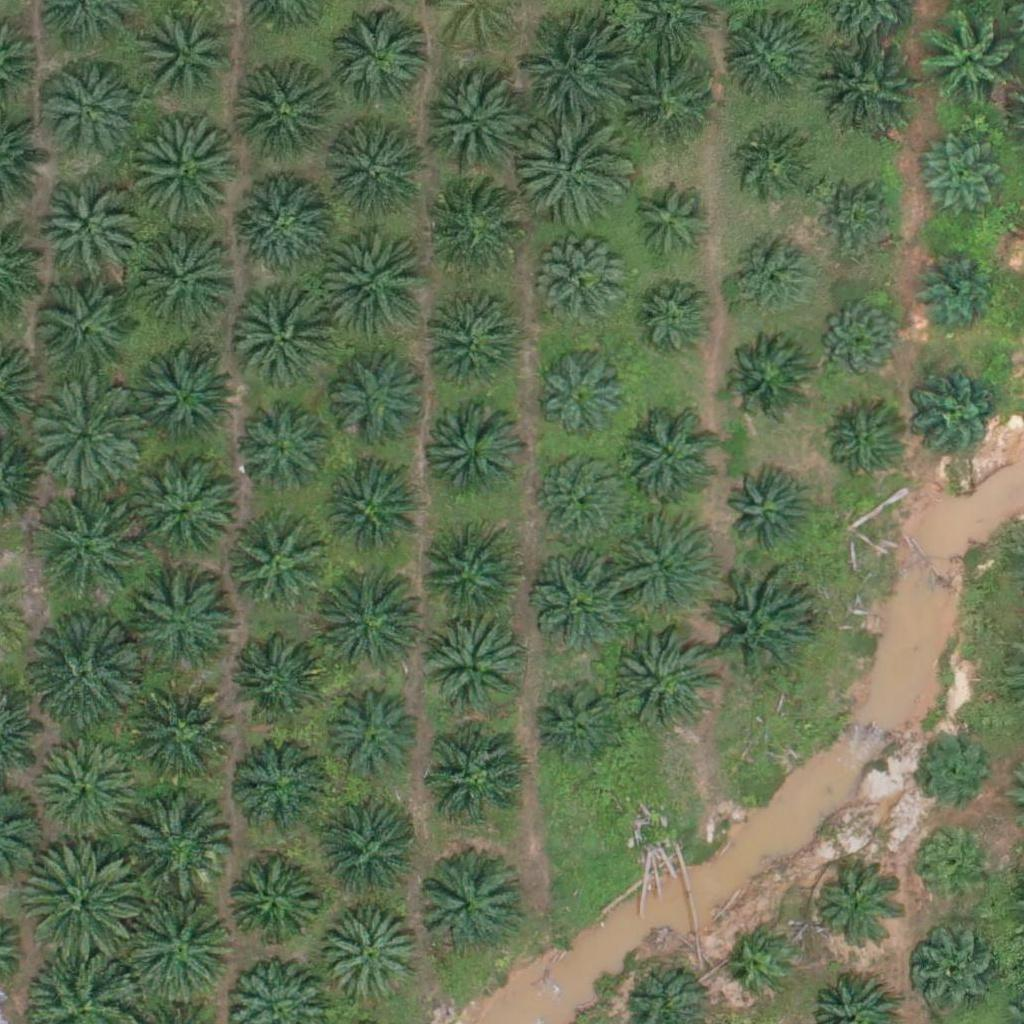Kelapa_Sawit: (27, 493, 140, 607), (127, 117, 240, 230), (319, 224, 432, 337), (700, 569, 813, 682), (120, 786, 233, 899), (27, 619, 140, 732), (325, 114, 437, 228), (518, 113, 630, 227), (518, 21, 630, 135), (123, 887, 235, 1001), (25, 839, 137, 953), (28, 378, 140, 491), (129, 221, 241, 334), (428, 63, 540, 176), (603, 506, 715, 619), (315, 564, 427, 677), (40, 59, 140, 160), (37, 175, 137, 276), (135, 340, 235, 441), (136, 6, 236, 107), (230, 63, 330, 164), (236, 171, 336, 272), (235, 296, 335, 397), (328, 348, 428, 449), (335, 7, 435, 108), (421, 183, 521, 284), (425, 298, 525, 399), (426, 406, 526, 507), (621, 53, 721, 154), (719, 4, 819, 105), (920, 8, 1020, 109), (415, 858, 515, 959), (322, 907, 422, 1008), (220, 852, 320, 953), (609, 630, 709, 731), (534, 547, 634, 648), (418, 616, 518, 717), (418, 528, 518, 629), (322, 460, 422, 561), (36, 740, 136, 841), (30, 282, 130, 382), (534, 345, 634, 445), (620, 409, 720, 509), (821, 31, 921, 131), (320, 809, 420, 909), (424, 726, 524, 826), (320, 685, 420, 785), (232, 730, 332, 830), (224, 510, 324, 610), (229, 626, 329, 726), (135, 459, 235, 559), (135, 576, 235, 676), (127, 689, 227, 789), (625, 276, 713, 365), (539, 452, 627, 541), (731, 130, 819, 218), (918, 136, 1006, 224), (915, 375, 1003, 463), (909, 824, 997, 912), (820, 402, 907, 490), (815, 295, 902, 383), (815, 174, 902, 262), (622, 183, 709, 271), (725, 234, 812, 322), (721, 334, 808, 422), (238, 405, 325, 493), (541, 246, 628, 334), (913, 242, 1000, 330), (911, 925, 998, 1013), (813, 866, 900, 954), (911, 725, 998, 813), (726, 471, 813, 559), (535, 678, 622, 766), (725, 928, 800, 1004)
